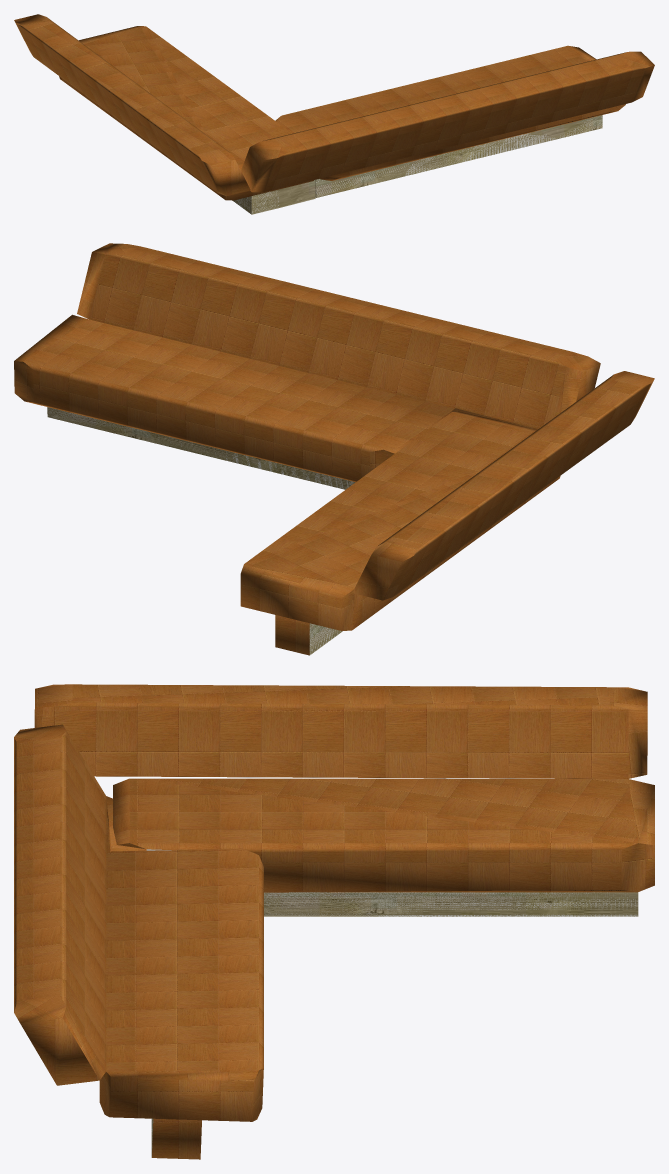
Rendered from kotlukk.dae.
3 renders of one model, top to bottom at view 1: azimuth 30°, elevation 25°; view 2: azimuth 150°, elevation 25°; view 3: azimuth 270°, elevation 25°, orthographic. The views are drawn at different scales.
Visible parts, largest first — view 1: canapé (×5); view 2: canapé (×3); view 3: canapé (×3).
Boxes of the visible parts, x1=… form: canapé (×5): x1=14, y1=14, x2=654, y2=214; canapé (×3): x1=14, y1=243, x2=654, y2=655; canapé (×3): x1=14, y1=684, x2=654, y2=1159.
Size of the model in its own units: 114 by 93.1 by 24.48.
Materials: 4 (2 with a texture image).
